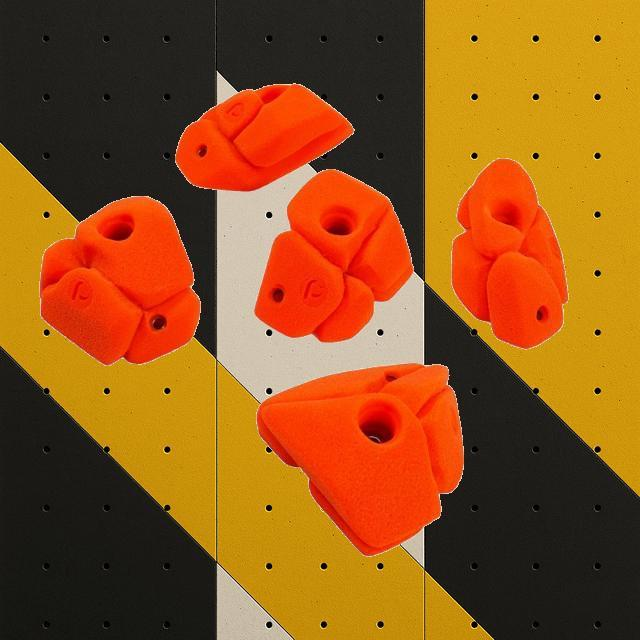Jug: (256, 362, 464, 556), (39, 194, 201, 366), (254, 168, 414, 342), (451, 157, 569, 349), (174, 82, 353, 192)
